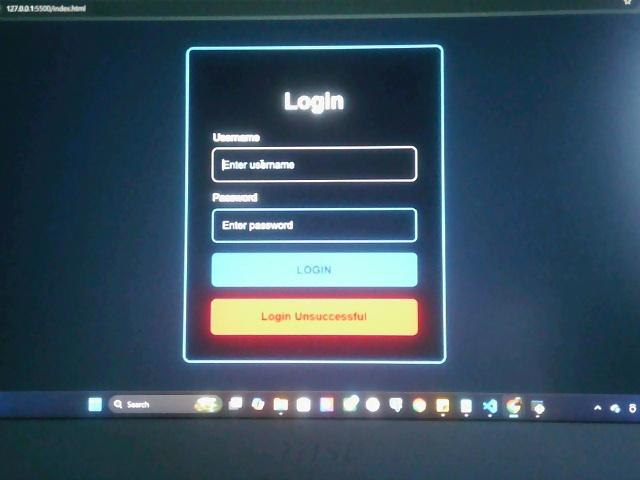login_button: (211, 251, 418, 287)
login_form: (185, 45, 446, 364)
password_input: (212, 207, 419, 244)
title_text: (281, 87, 348, 119)
unsuccess_alert: (210, 297, 418, 336)
username_input: (212, 147, 417, 182)
